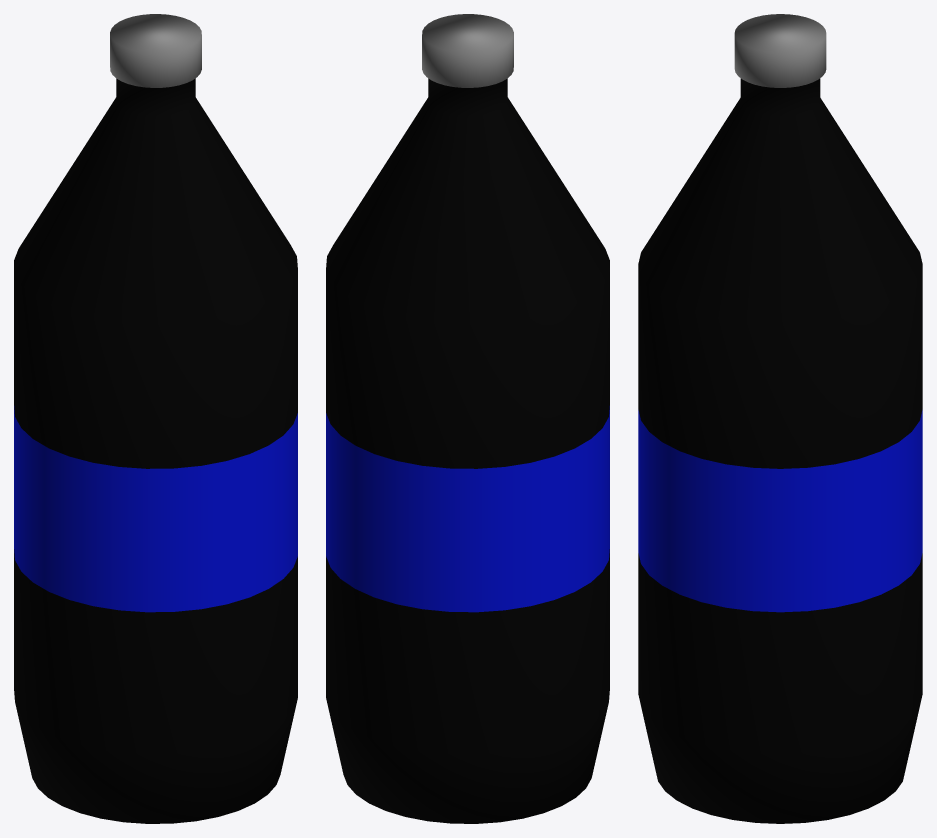
File: pieza2Nave.fbx
The picture shows the model from 3 angles, left to right: view 1: azimuth 30°, elevation 25°; view 2: azimuth 150°, elevation 25°; view 3: azimuth 270°, elevation 25°; orthographic projection.
Visible parts, largest first — view 1: Cylinder; view 2: Cylinder; view 3: Cylinder.
Boxes of the visible parts, x1=… form: Cylinder: x1=14, y1=14, x2=297, y2=823; Cylinder: x1=326, y1=14, x2=609, y2=823; Cylinder: x1=638, y1=14, x2=922, y2=823.
Size of the model in its own units: 34.67 by 99.26 by 34.67.
